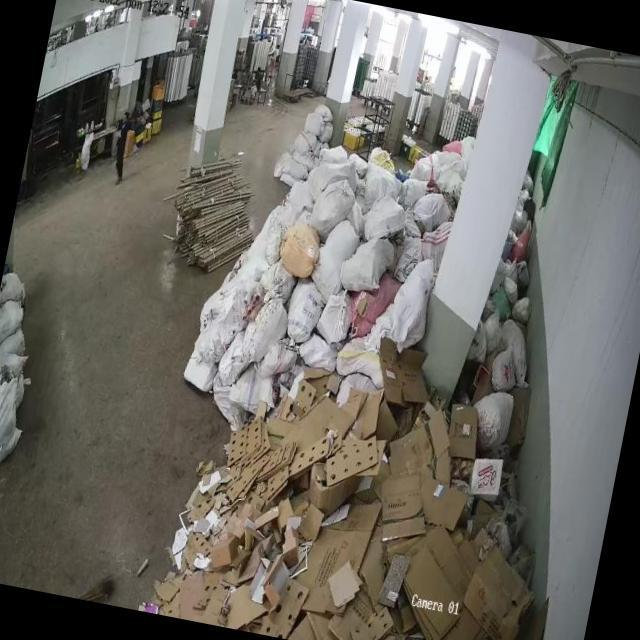person: (110, 109, 136, 183)
